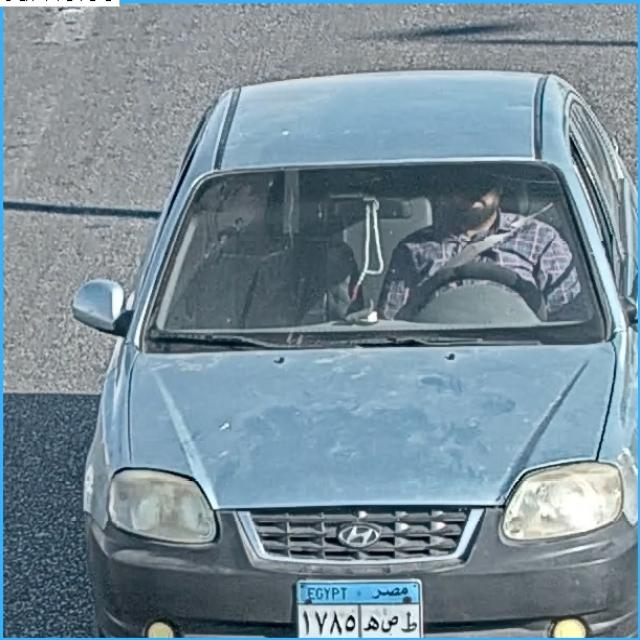windshield: (153, 171, 603, 333)
